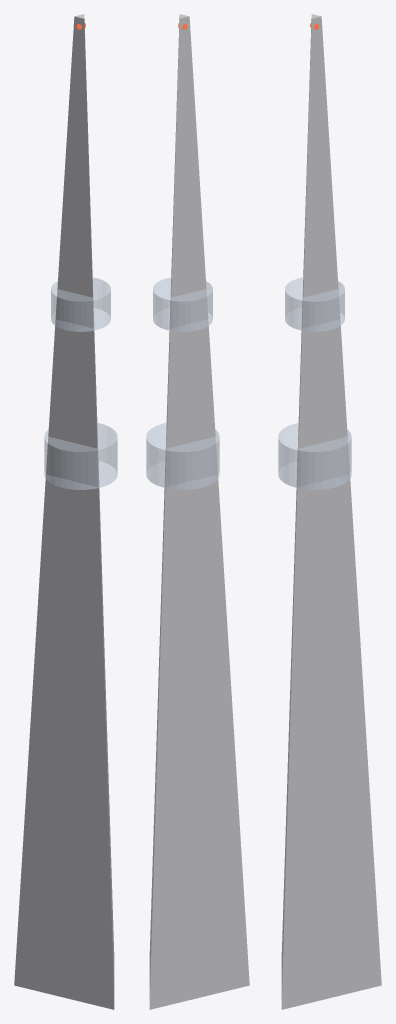
File: tokyo_skytree.glb
3 views of the same model, side by side, from view 1: azimuth 90°, elevation 25°; view 2: azimuth 150°, elevation 25°; view 3: azimuth 270°, elevation 25° (orthographic).
Visible parts, largest first — view 1: Cone, Cone.001, Cone.002, Cone.003, Cone.004, Cone.005, Cylinder, Cone.006, Cone.007, Cone.008, Cone.009, Cone.010 (+10 smaller); view 2: Cone, Cone.001, Cone.002, Cone.003, Cone.004, Cone.005, Cylinder, Cone.006, Cone.007, Cone.008, Cone.009, Cone.010 (+10 smaller); view 3: Cone, Cone.001, Cone.002, Cone.003, Cone.004, Cone.005, Cylinder, Cone.006, Cone.007, Cone.008, Cone.009, Cone.010 (+10 smaller).
Part boxes in pixels (x1=…): Cone: x1=14, y1=921, x2=114, y2=1009; Cone.001: x1=17, y1=868, x2=112, y2=960; Cone.002: x1=20, y1=826, x2=111, y2=910; Cone.003: x1=23, y1=774, x2=109, y2=861; Cone.004: x1=26, y1=732, x2=108, y2=811; Cone.005: x1=29, y1=679, x2=106, y2=761; Cylinder: x1=44, y1=423, x2=117, y2=489; Cone.006: x1=32, y1=637, x2=105, y2=712; Cone.007: x1=35, y1=585, x2=103, y2=662; Cone.008: x1=38, y1=543, x2=102, y2=613; Cone.009: x1=41, y1=490, x2=100, y2=563; Cone.010: x1=44, y1=449, x2=99, y2=514; Cone: x1=149, y1=919, x2=249, y2=1009; Cone.001: x1=151, y1=867, x2=246, y2=960; Cone.002: x1=152, y1=825, x2=243, y2=910; Cone.003: x1=154, y1=772, x2=240, y2=861; Cone.004: x1=155, y1=730, x2=237, y2=811; Cone.005: x1=157, y1=678, x2=234, y2=761; Cylinder: x1=146, y1=423, x2=219, y2=489; Cone.006: x1=158, y1=636, x2=231, y2=712; Cone.007: x1=160, y1=583, x2=228, y2=662; Cone.008: x1=161, y1=541, x2=225, y2=613; Cone.009: x1=163, y1=489, x2=222, y2=563; Cone.010: x1=164, y1=447, x2=219, y2=514; Cone: x1=281, y1=921, x2=381, y2=1009; Cone.001: x1=283, y1=868, x2=378, y2=960; Cone.002: x1=284, y1=826, x2=375, y2=910; Cone.003: x1=286, y1=774, x2=372, y2=861; Cone.004: x1=287, y1=732, x2=369, y2=811; Cone.005: x1=289, y1=679, x2=366, y2=761; Cylinder: x1=278, y1=423, x2=351, y2=489; Cone.006: x1=290, y1=637, x2=363, y2=712; Cone.007: x1=292, y1=585, x2=360, y2=662; Cone.008: x1=293, y1=543, x2=357, y2=613; Cone.009: x1=295, y1=490, x2=354, y2=563; Cone.010: x1=296, y1=449, x2=351, y2=514.
Size of the model in its own units: 69.28 by 640 by 62.
